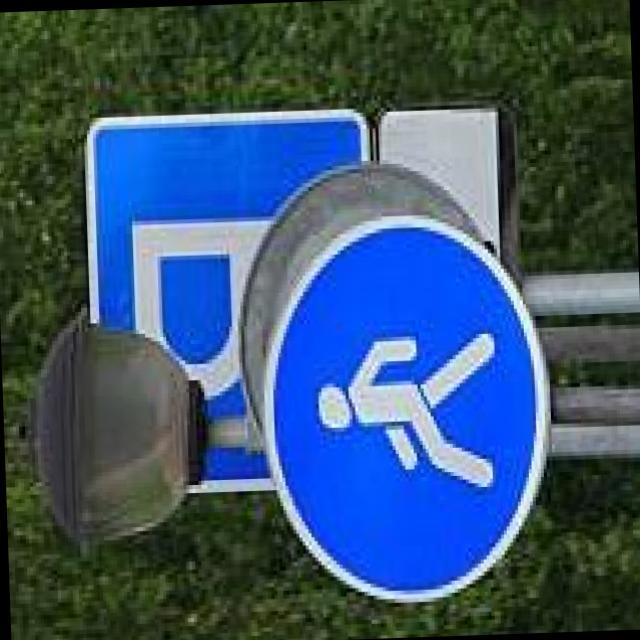obstructed_road_sign: (87, 110, 371, 494)
road_sign: (264, 213, 551, 602)
